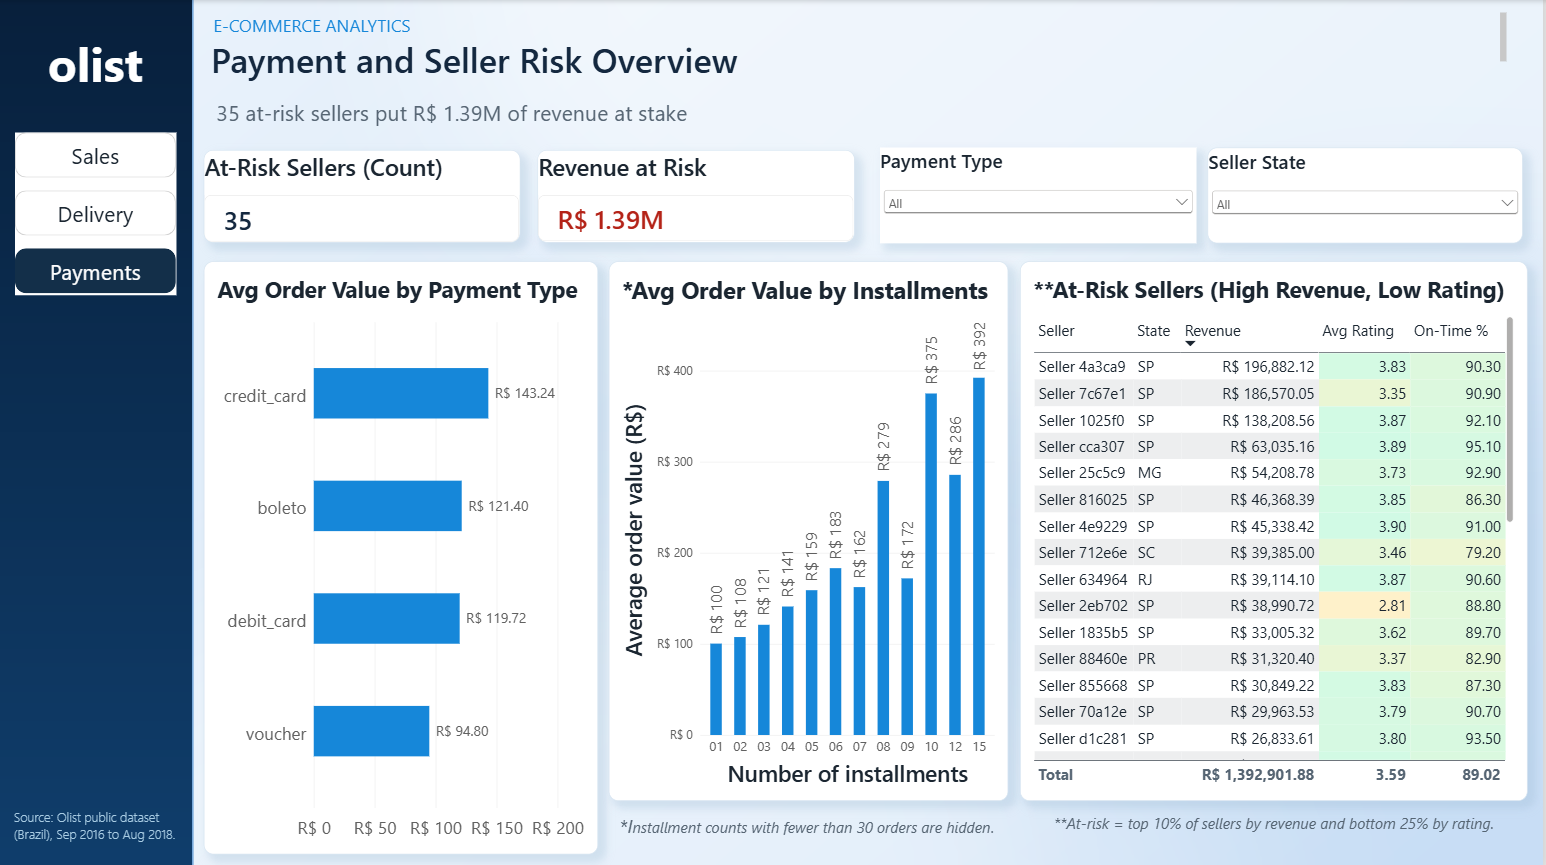

The page's visual inventory and layout, read from the dashboard file:
{"tool":"powerbi","page":{"name":"Payments","canvas":[1920,1080],"ordinal":2},"visuals":[{"type":"barChart","title":"Avg Order Value by Payment Type","fields":{"Category":["order_payment_export.payment_type"],"Y":["order_payment_export.Avg Order Value (Payment)"]},"box":[252.9,324.4,490.1,737.8],"z":0},{"type":"columnChart","title":"*Avg Order Value by Installments ","fields":{"Category":["order_payment_export.Installments Label"],"Y":["order_payment_export.Avg Order Value (Payment)"]},"box":[757,324.4,497.1,671.5],"z":1000},{"type":"tableEx","title":"**At-Risk Sellers (High Revenue, Low Rating)","fields":{"Values":["seller_scorecard_ranked_export.Seller Label","seller_scorecard_ranked_export.seller_state","Sum(seller_scorecard_ranked_export.total_revenue)","Avg(seller_scorecard_ranked_export.avg_review_score)","Avg(seller_scorecard_ranked_export.on_time_pct)"]},"box":[1268.4,324.9,631.1,671.5],"z":2000},{"type":"cardVisual","title":"At-Risk Sellers (Count)","fields":{"Data":["seller_scorecard_ranked_export.At-Risk Seller Count"]},"box":[252.9,186.6,393.6,115.6],"z":3000},{"type":"cardVisual","title":"Revenue at Risk","fields":{"Data":["seller_scorecard_ranked_export.At-Risk Revenue"]},"box":[668,186.6,394.2,115.1],"z":4000},{"type":"textbox","box":[252.9,15.7,1620,92],"z":5000},{"type":"slicer","title":"Payment Type","fields":{"Values":["order_payment_export.payment_type"]},"box":[1093.6,183.1,393.6,118.9],"z":6000},{"type":"textbox","box":[13.4,38.5,209.4,95.5],"z":7000},{"type":"slicer","title":"Seller State","fields":{"Values":["seller_scorecard_ranked_export.seller_state"]},"box":[1501.7,183.1,391.9,118.9],"z":8000},{"type":"textbox","box":[757,1009.9,497.1,52.3],"z":9000},{"type":"pageNavigator","box":[18.4,164.1,201,202.7],"z":10000},{"type":"cardVisual","fields":{"Data":["seller_scorecard_ranked_export.Payments Subtitle"]},"box":[252.9,109.9,1063,57],"z":11000},{"type":"textbox","box":[17.4,1004,202.3,54],"z":12000},{"type":"textbox","box":[1267.9,1010,631.5,46.9],"z":12001}]}

Visuals, with their boxes on the page's 1920x1080 design canvas (x1, y1, x2, y2). These are canvas units, not pixel positions in the 1546x865 screenshot, which may show the page scaled, cropped or inside an application window:
"Avg Order Value by Payment Type" barChart: [x1=253, y1=324, x2=743, y2=1062]
"*Avg Order Value by Installments " columnChart: [x1=757, y1=324, x2=1254, y2=996]
"**At-Risk Sellers (High Revenue, Low Rating)" tableEx: [x1=1268, y1=325, x2=1900, y2=996]
"At-Risk Sellers (Count)" cardVisual: [x1=253, y1=187, x2=646, y2=302]
"Revenue at Risk" cardVisual: [x1=668, y1=187, x2=1062, y2=302]
textbox: [x1=253, y1=16, x2=1873, y2=108]
"Payment Type" slicer: [x1=1094, y1=183, x2=1487, y2=302]
textbox: [x1=13, y1=38, x2=223, y2=134]
"Seller State" slicer: [x1=1502, y1=183, x2=1894, y2=302]
textbox: [x1=757, y1=1010, x2=1254, y2=1062]
pageNavigator: [x1=18, y1=164, x2=219, y2=367]
cardVisual - seller_scorecard_ranked_export.Payments Subtitle: [x1=253, y1=110, x2=1316, y2=167]
textbox: [x1=17, y1=1004, x2=220, y2=1058]
textbox: [x1=1268, y1=1010, x2=1899, y2=1057]
